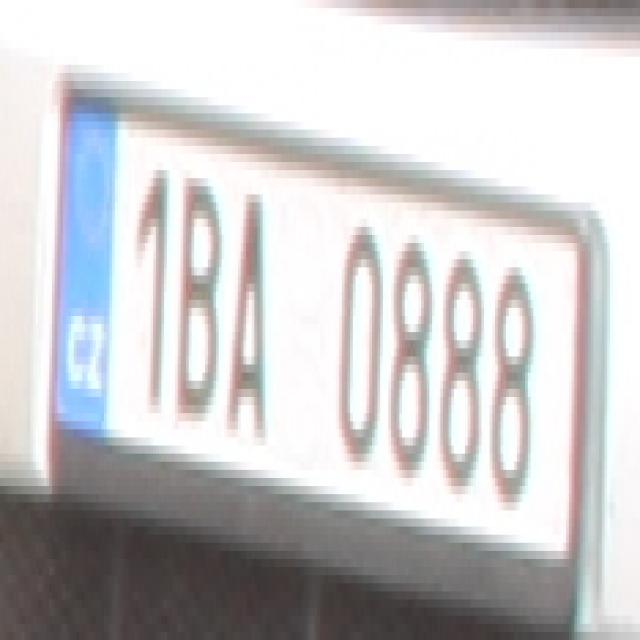0: (331, 211, 380, 470)
1: (131, 154, 170, 405)
8: (487, 260, 536, 510), (435, 235, 481, 486), (386, 227, 432, 478)
A: (227, 186, 274, 438)
B: (172, 162, 222, 405)
